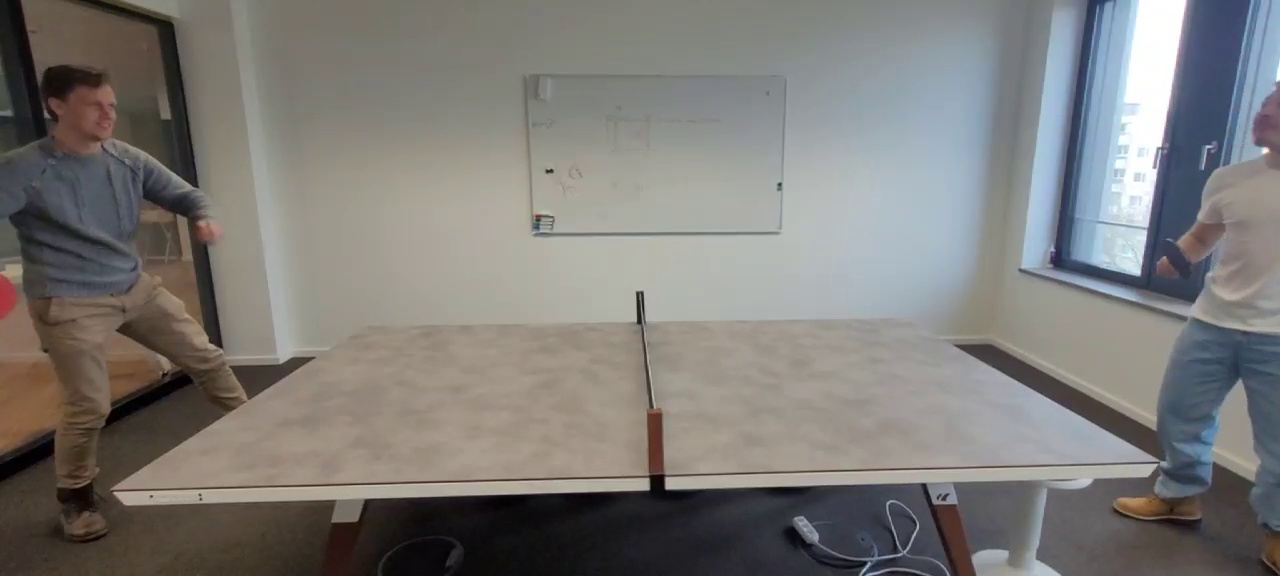1: (1162, 238, 1191, 279), (0, 274, 15, 319)
ttplatte: (111, 317, 1159, 488)
